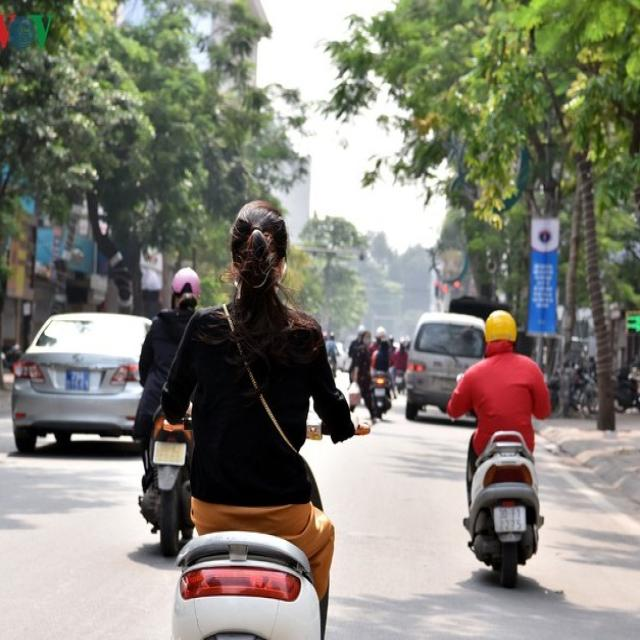Face and Hair: (220, 192, 297, 334)
